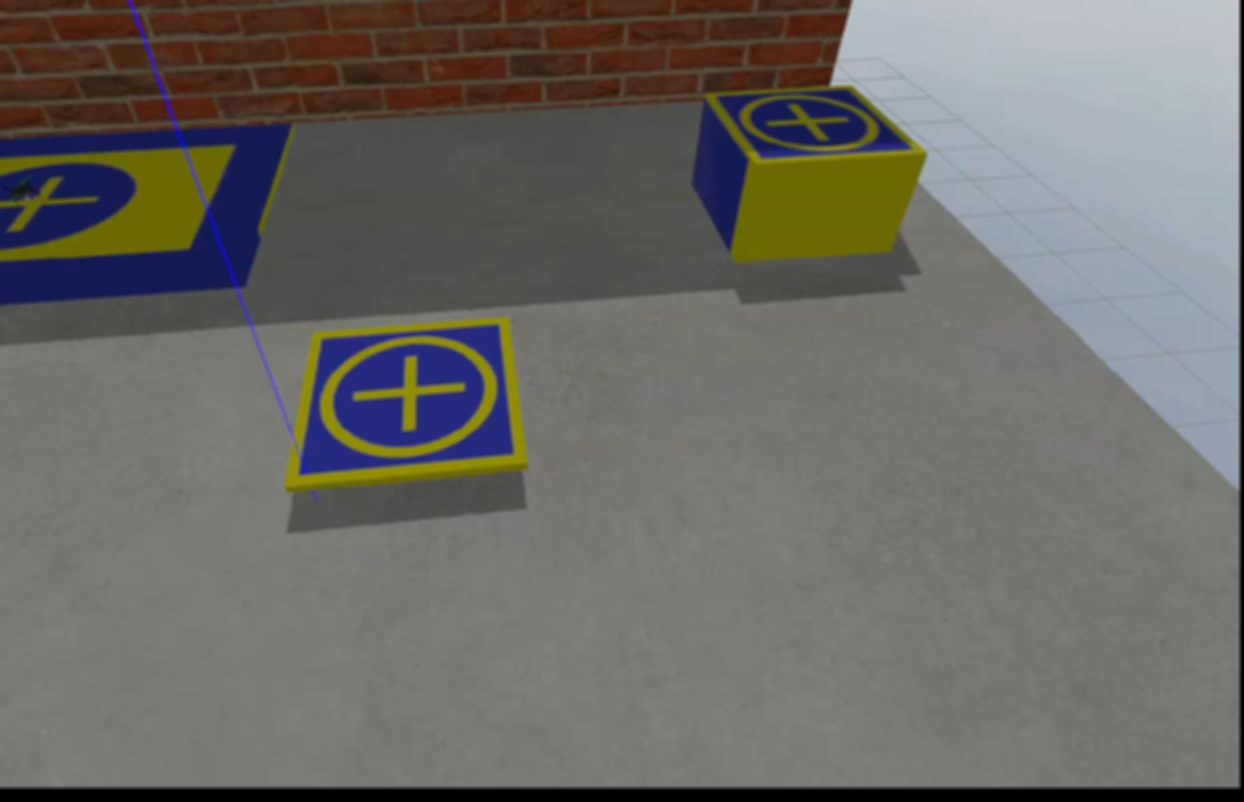large_base: (0, 118, 297, 297)
small_base: (293, 317, 529, 491), (704, 91, 929, 166)
